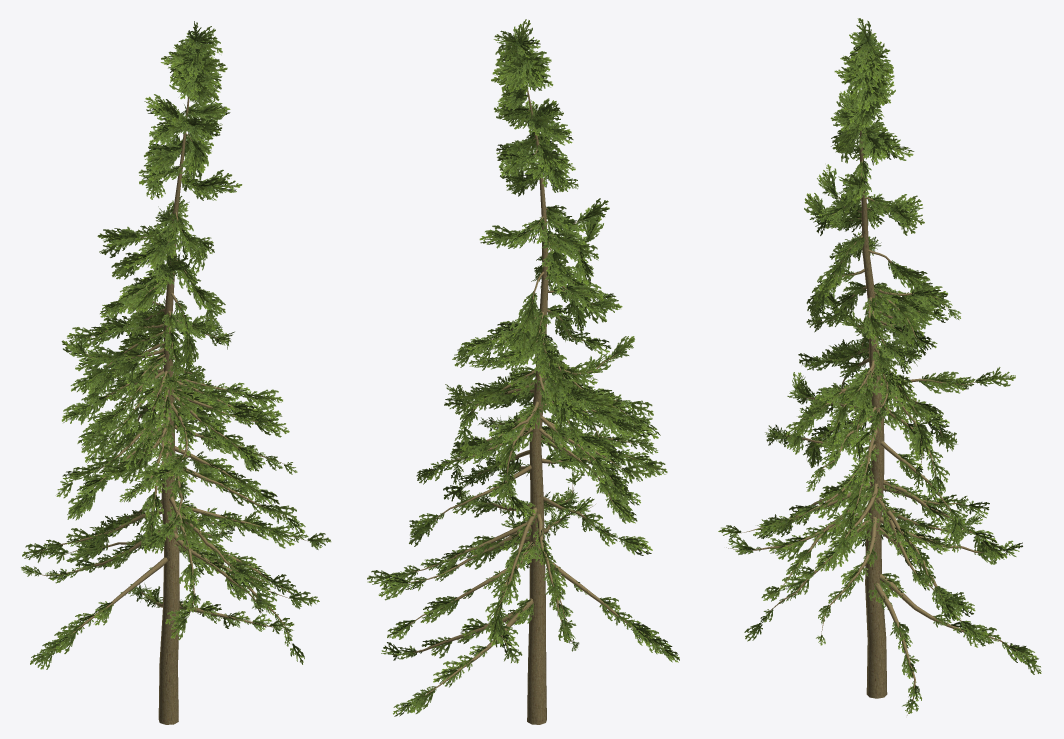
The model's file is YoungPine.glb.
3 renders of one model, left to right at view 1: azimuth 30°, elevation 25°; view 2: azimuth 150°, elevation 25°; view 3: azimuth 270°, elevation 25°, orthographic. The views are drawn at different scales.
Visible parts, largest first — view 1: YoungPine canopy, YoungPine trunk; view 2: YoungPine canopy, YoungPine trunk; view 3: YoungPine canopy, YoungPine trunk.
Part boxes in pixels (<box>): YoungPine canopy: <box>21,21,331,669</box>; YoungPine trunk: <box>36,48,310,724</box>; YoungPine canopy: <box>367,19,679,716</box>; YoungPine trunk: <box>392,89,665,724</box>; YoungPine canopy: <box>718,18,1041,713</box>; YoungPine trunk: <box>726,130,1026,715</box>.
Bounding box in the file's own units: 3.43 × 8 × 3.52.
2 materials, 2 textured.
